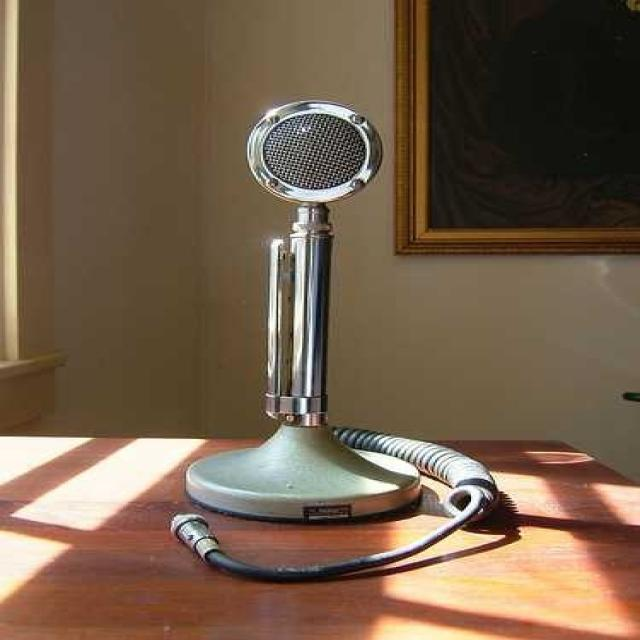microphone: (222, 101, 390, 472)
